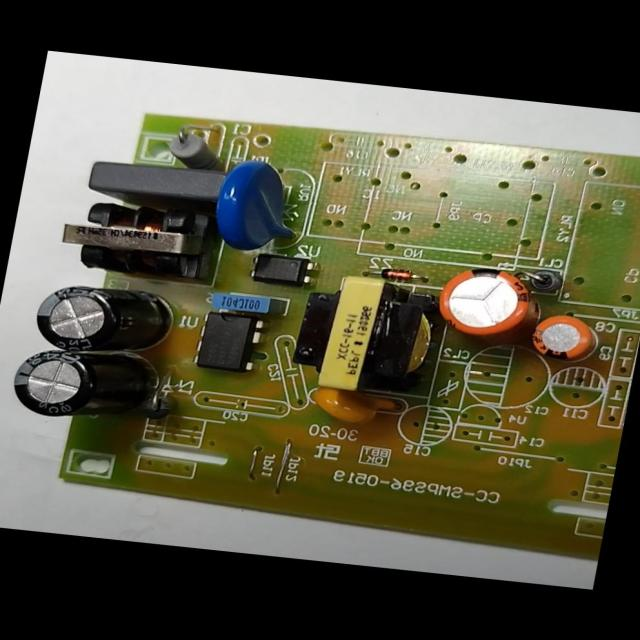Cap1: (427, 261, 543, 341)
Cap2: (524, 309, 600, 363)
Cap3: (26, 280, 178, 360)
Cap4: (7, 342, 152, 426)
MOSFET: (189, 307, 268, 375)
Mov: (209, 155, 306, 254)
Resistor: (158, 126, 228, 170)
Transformer: (286, 270, 442, 400), (52, 195, 220, 280)
